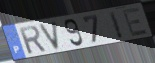7: (82, 13, 100, 44)
9: (64, 18, 84, 47)
E: (121, 6, 149, 38)
I: (108, 10, 125, 41)
R: (17, 24, 48, 56)
V: (38, 19, 61, 51)
